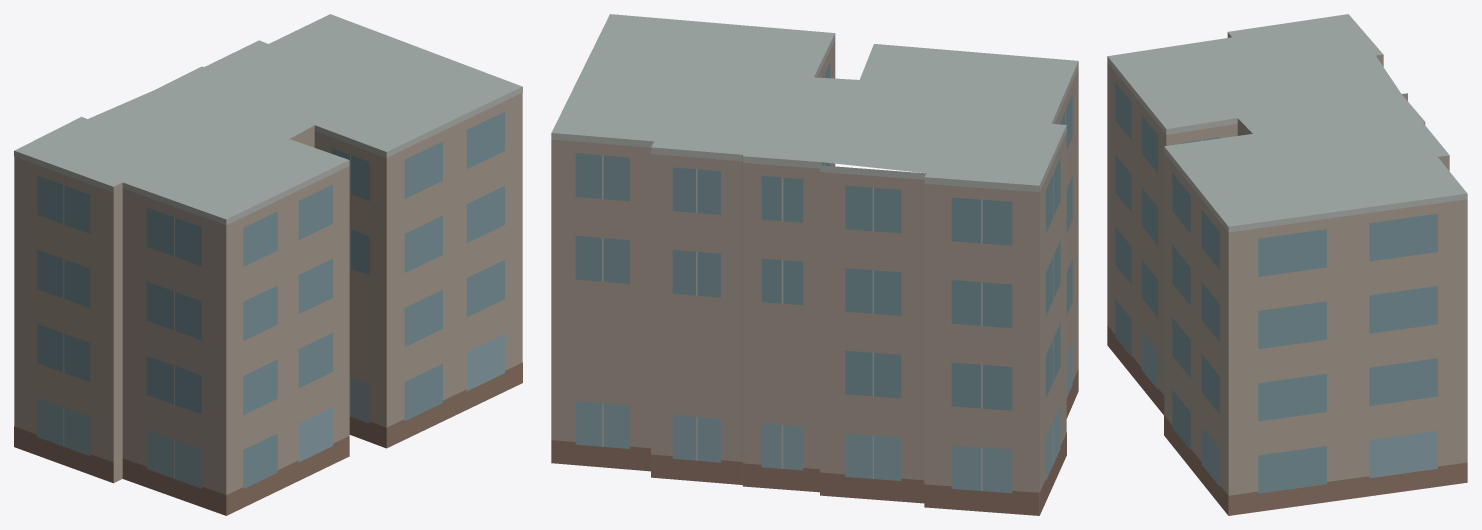
File: survey-upis-32565107.glb
3 renders of one model, left to right at view 1: azimuth 30°, elevation 25°; view 2: azimuth 150°, elevation 25°; view 3: azimuth 270°, elevation 25°, orthographic. The views are drawn at different scales.
Visible parts, largest first — view 1: survey-upis-32565107.tmp; view 2: survey-upis-32565107.tmp; view 3: survey-upis-32565107.tmp.
Part boxes in pixels (bbox=[...]): survey-upis-32565107.tmp: bbox=[14, 14, 522, 515]; survey-upis-32565107.tmp: bbox=[551, 14, 1078, 515]; survey-upis-32565107.tmp: bbox=[1107, 14, 1467, 515].
Size of the model in its own units: 19.27 by 12.2 by 13.78.
